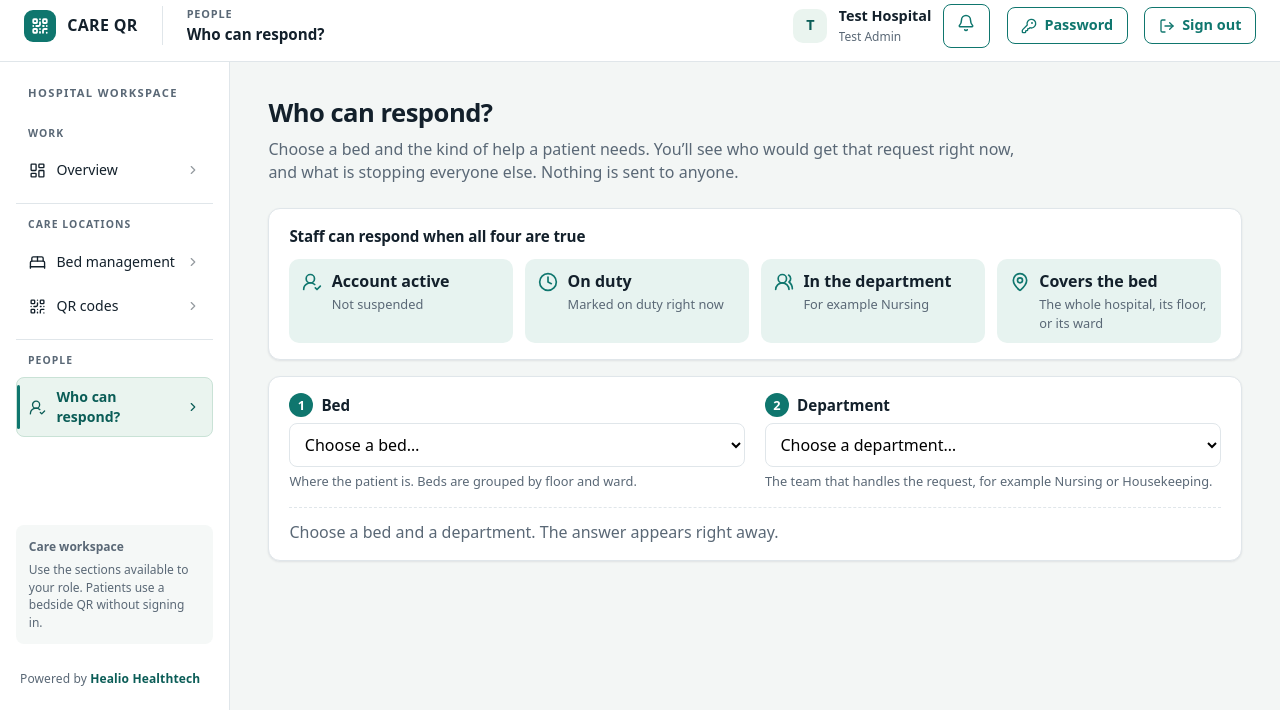
it: Who can respond? › explains an empty or turned-off department and nobody available
The width and height of the screenshot is (1280, 710).
Step 1. Select "Bed A 01" in the dropdown labelled "Bed" → point(517, 445), box [289,423,745,466]
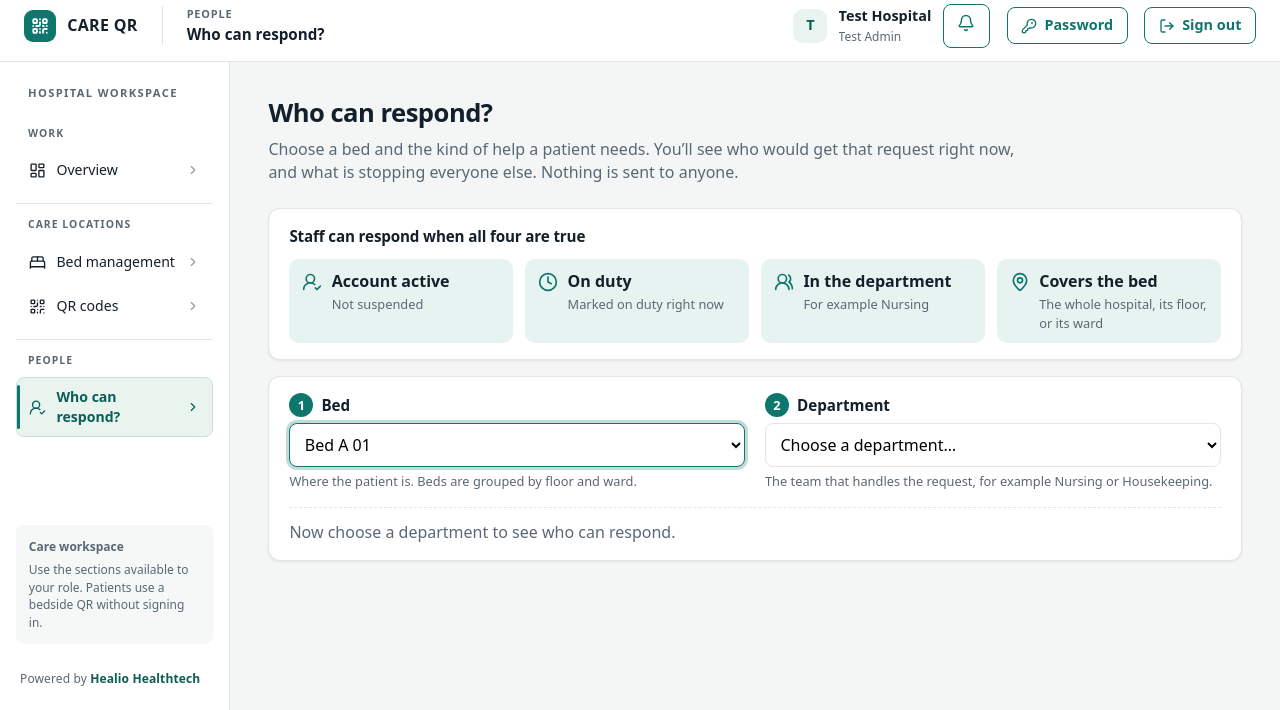
Step 2. Select "Billing" in the dropdown labelled "Department" → point(993, 445), box [765,423,1221,466]
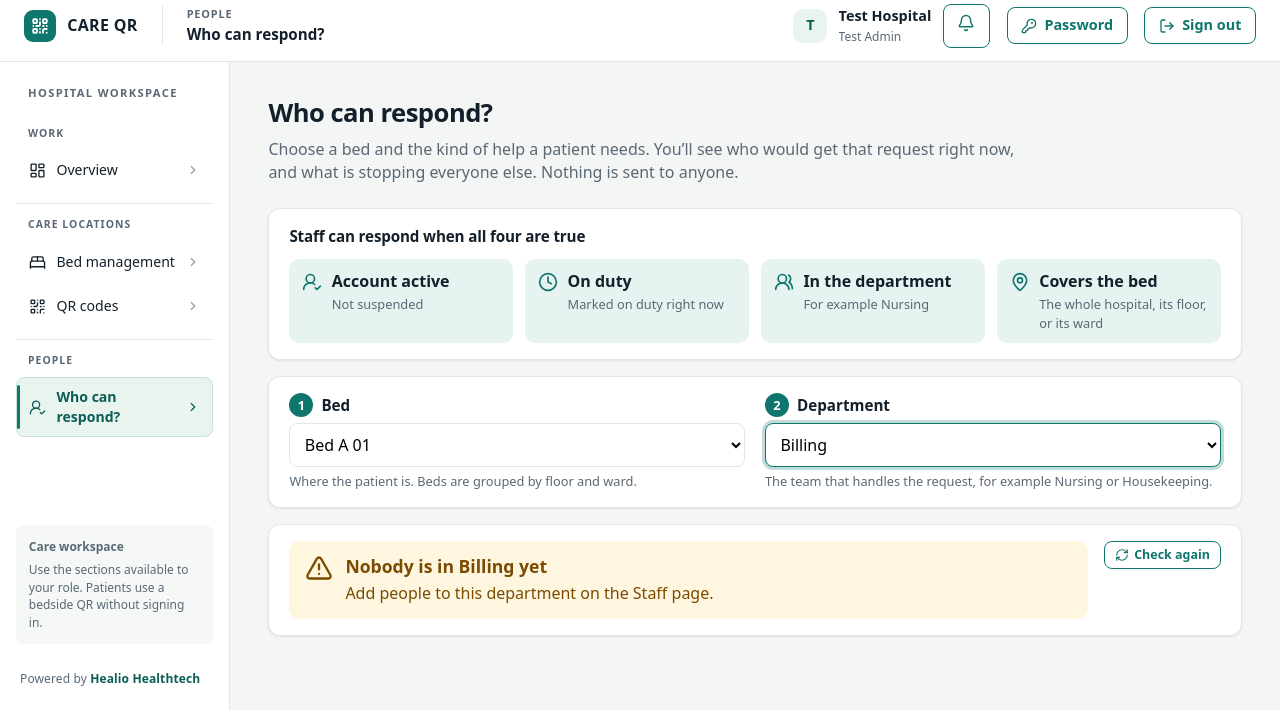
Expected: the message shows "Nobody is in Billing yet", [345,554,547,578]
Step 3. Select "Laundry (turned off)" in the dropdown labelled "Department" → point(993, 445), box [765,423,1221,466]
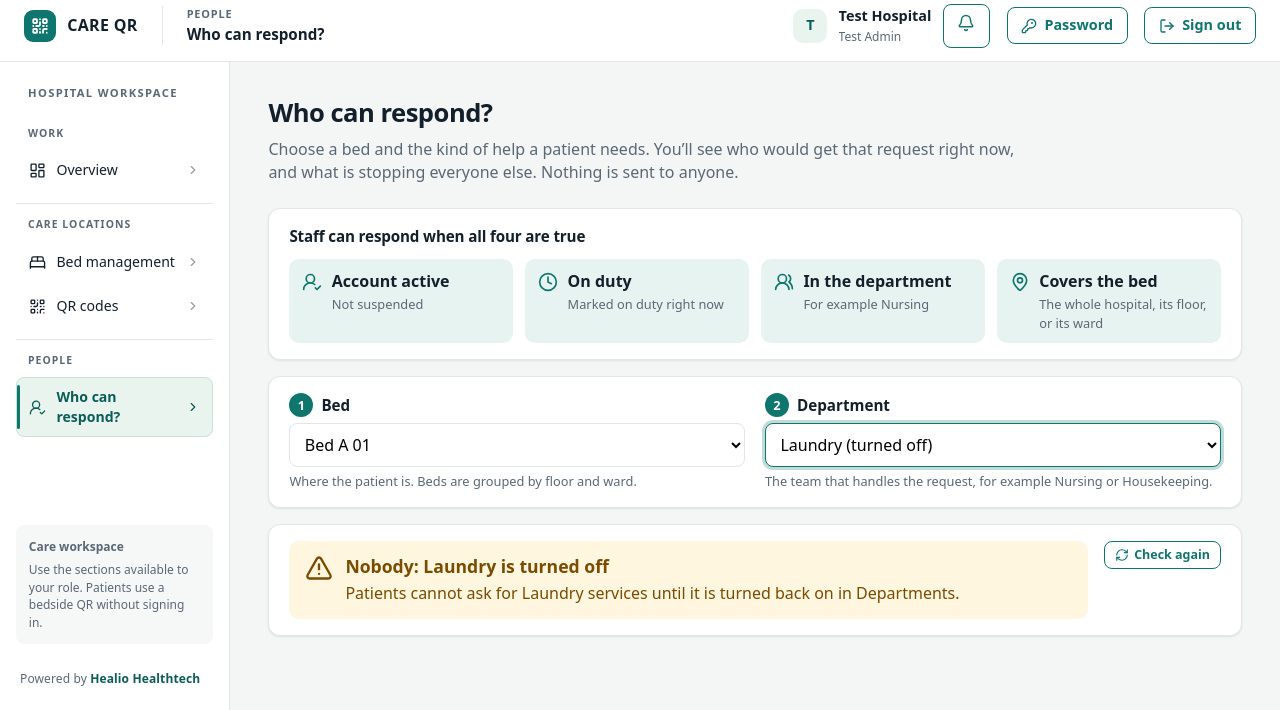
Expected: the message shows "Nobody: Laundry is turned off", [345,554,609,578]
Step 4. Select "Nursing" in the dropdown labelled "Department" → point(993, 445), box [765,423,1221,466]
(page scrolled)
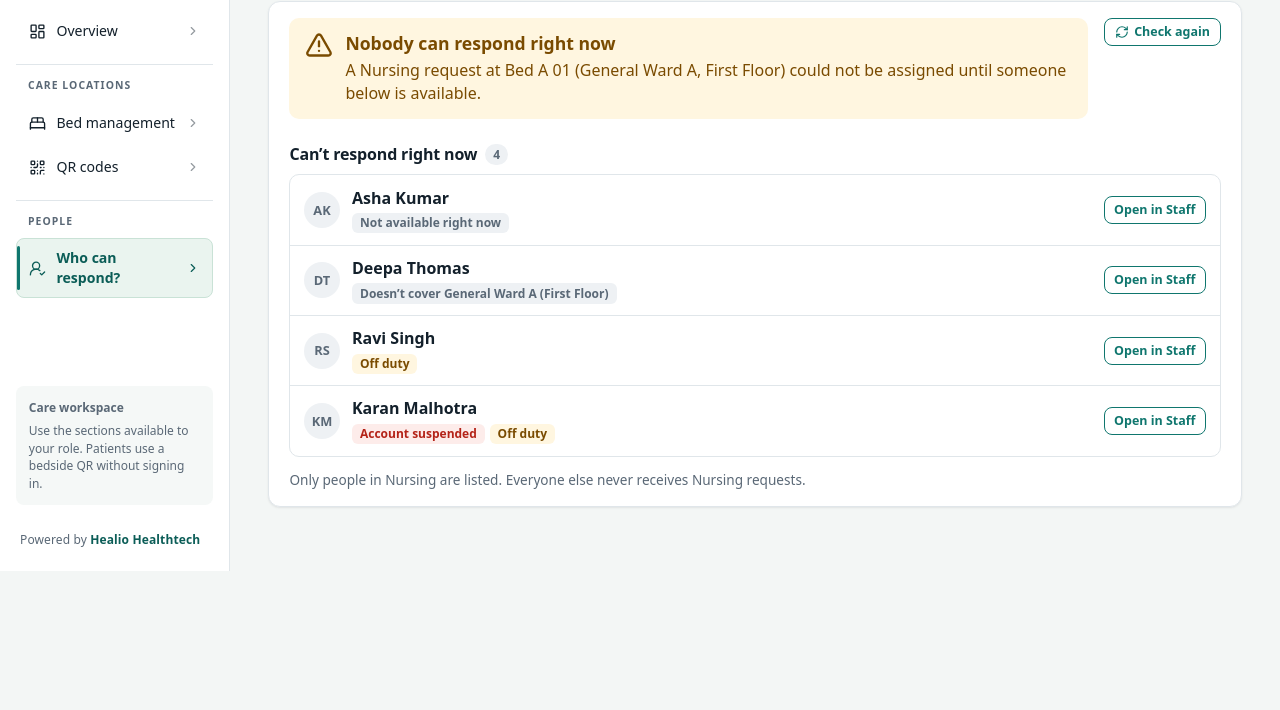
Expected: the message shows "Nobody can respond right now", [345,31,616,55]
Expected: the list named "Can’t respond right now" is shown, [289,174,1221,457]
Expected: the text "On duty" is gone
